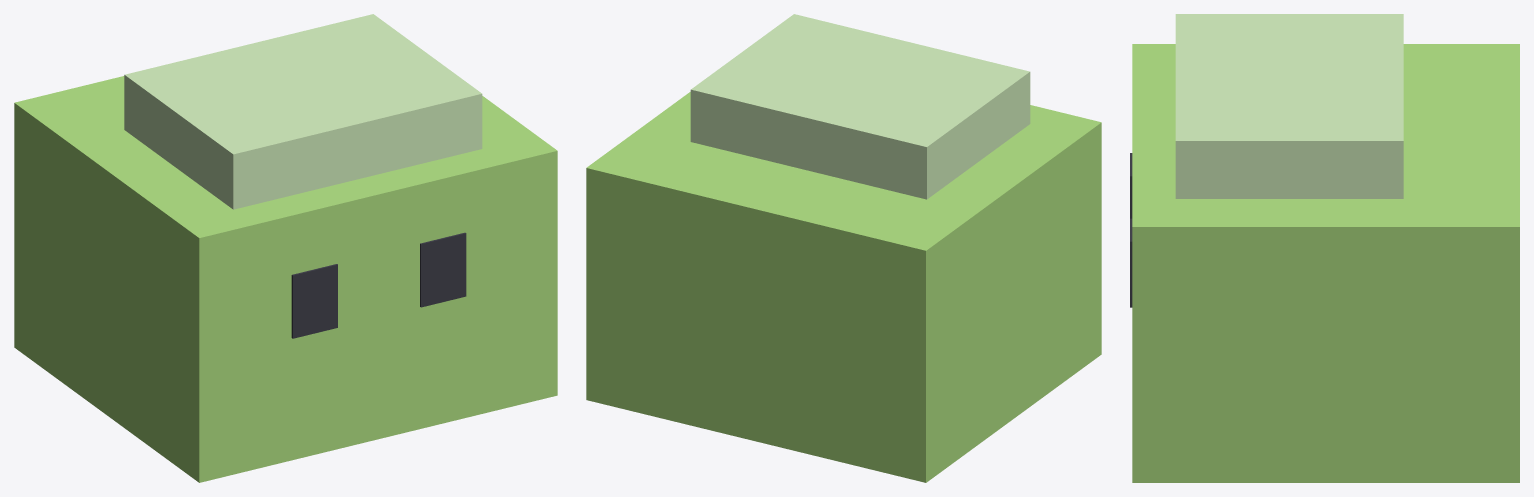
The model's file is act4-vault-slime.gltf.
The picture shows the model from 3 angles, left to right: view 1: azimuth 30°, elevation 25°; view 2: azimuth 150°, elevation 25°; view 3: azimuth 270°, elevation 25°; orthographic projection. The views are drawn at different scales.
Visible parts, largest first — view 1: blob, dome, eyeL, eyeR; view 2: blob, dome; view 3: blob, dome.
Boxes of the visible parts, x1,y1,x2,y2 form: blob: [14, 76, 557, 482]; dome: [124, 14, 482, 209]; eyeL: [291, 264, 337, 338]; eyeR: [420, 232, 466, 307]; blob: [586, 92, 1101, 482]; dome: [690, 14, 1030, 199]; blob: [1132, 44, 1519, 482]; dome: [1175, 14, 1403, 198].
Size of the model in its own units: 0.95 by 0.76 by 0.855.
